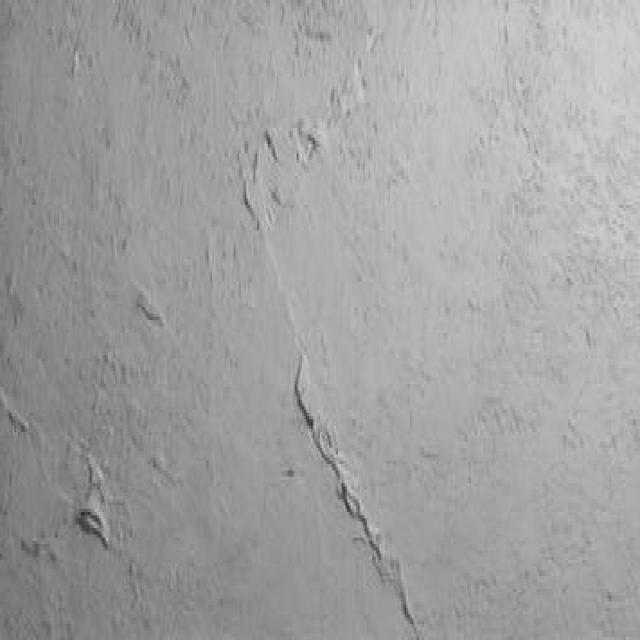trowels marks: (229, 0, 435, 640), (0, 246, 180, 640)
